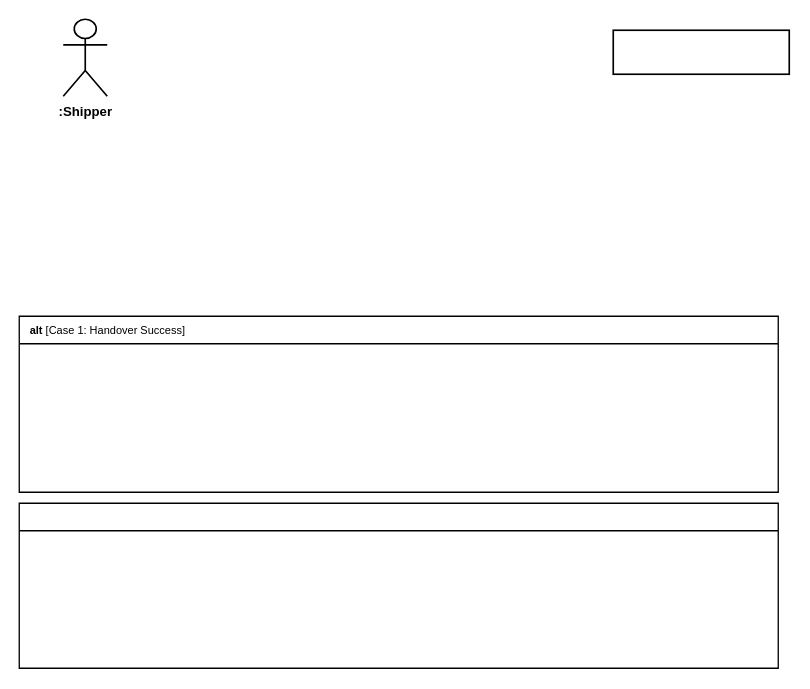
Some shapes in this 810 by 689 pixel diagram are drawn without their labels. The box of each missing label's shape, as (x1, y1, x2, y2) in pixels:
:SaigonBiteSystem: (612, 29, 790, 75)
[Case 2: Customer Unreachable > 10 Mins]: (18, 502, 778, 668)
